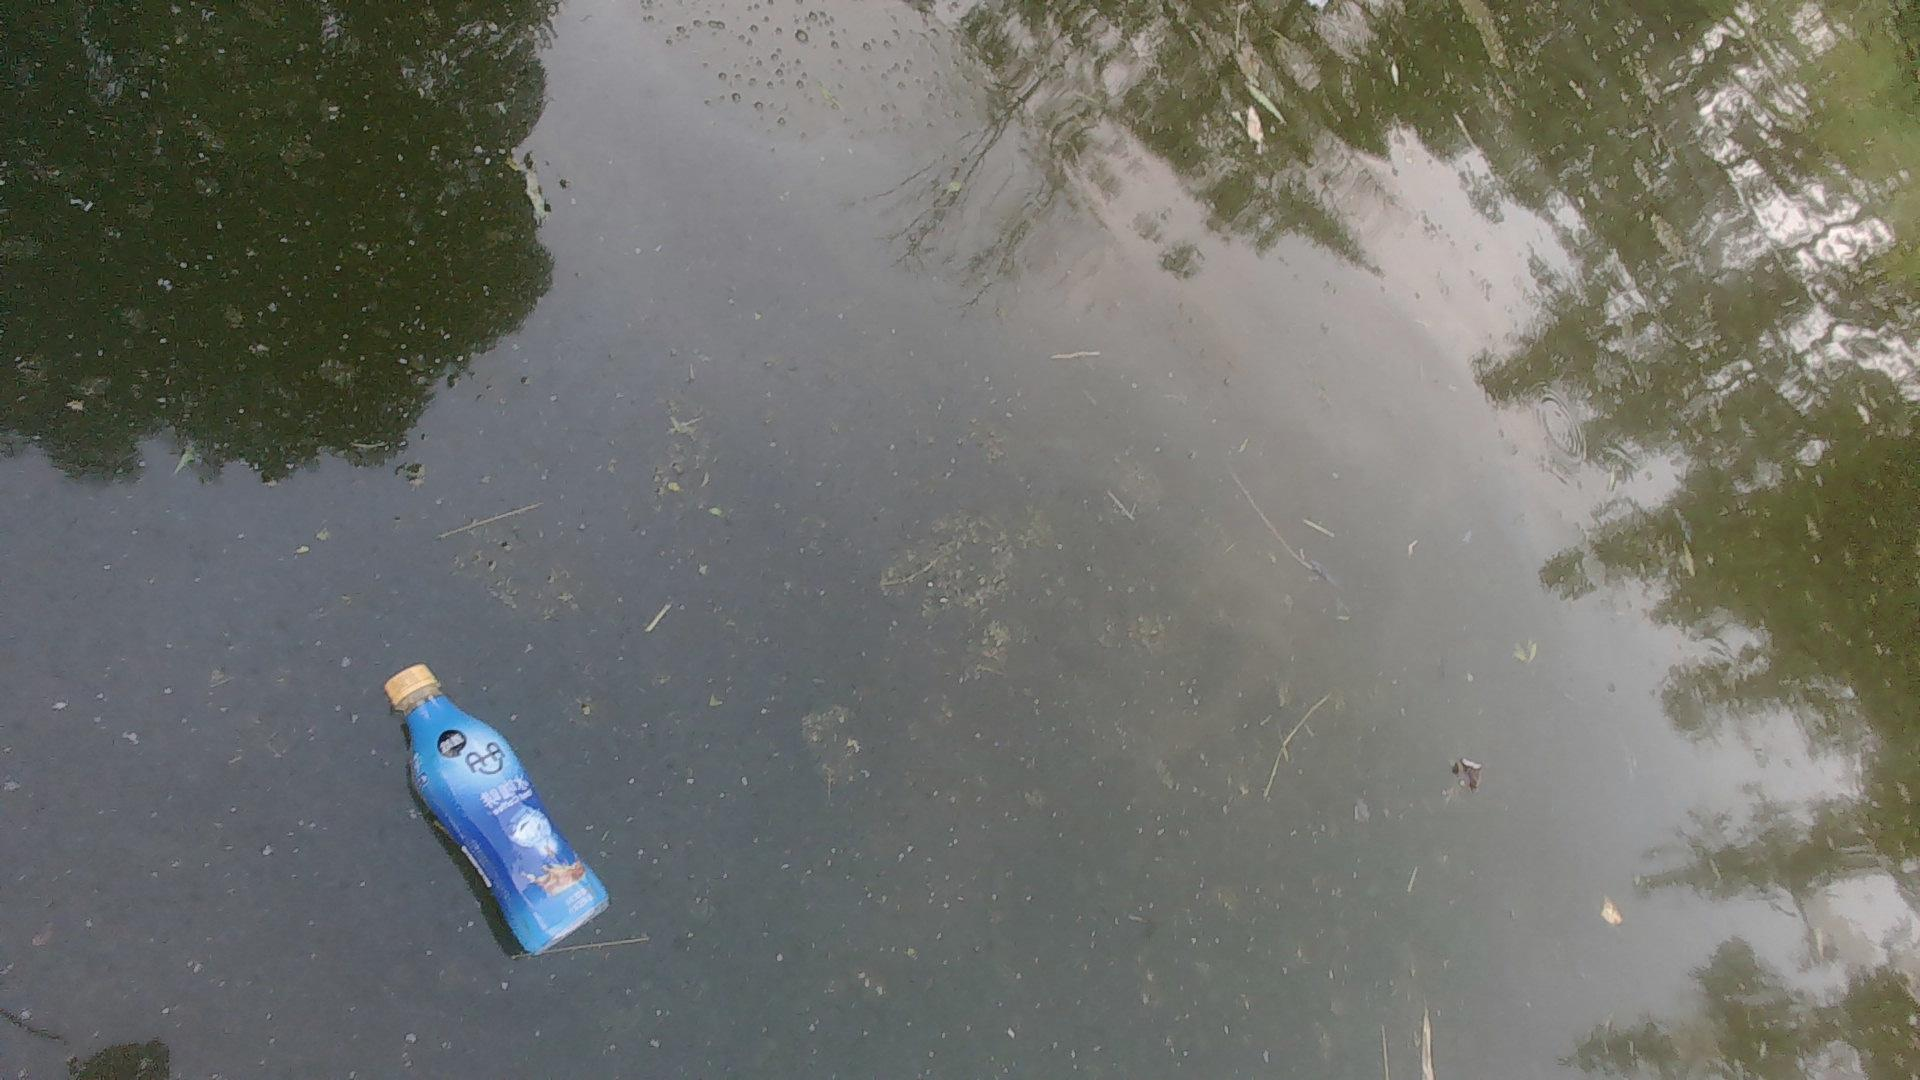Plastic: (375, 661, 615, 969)
